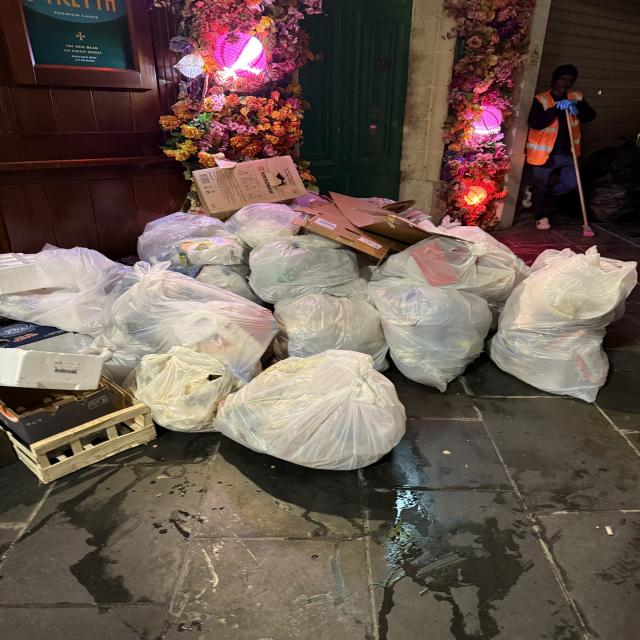Recyclable Material -Grey Bags-: (0, 203, 637, 471)
